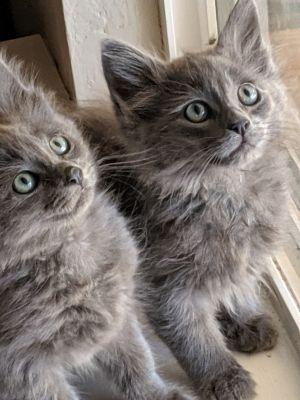rblue: (93, 2, 290, 197)
